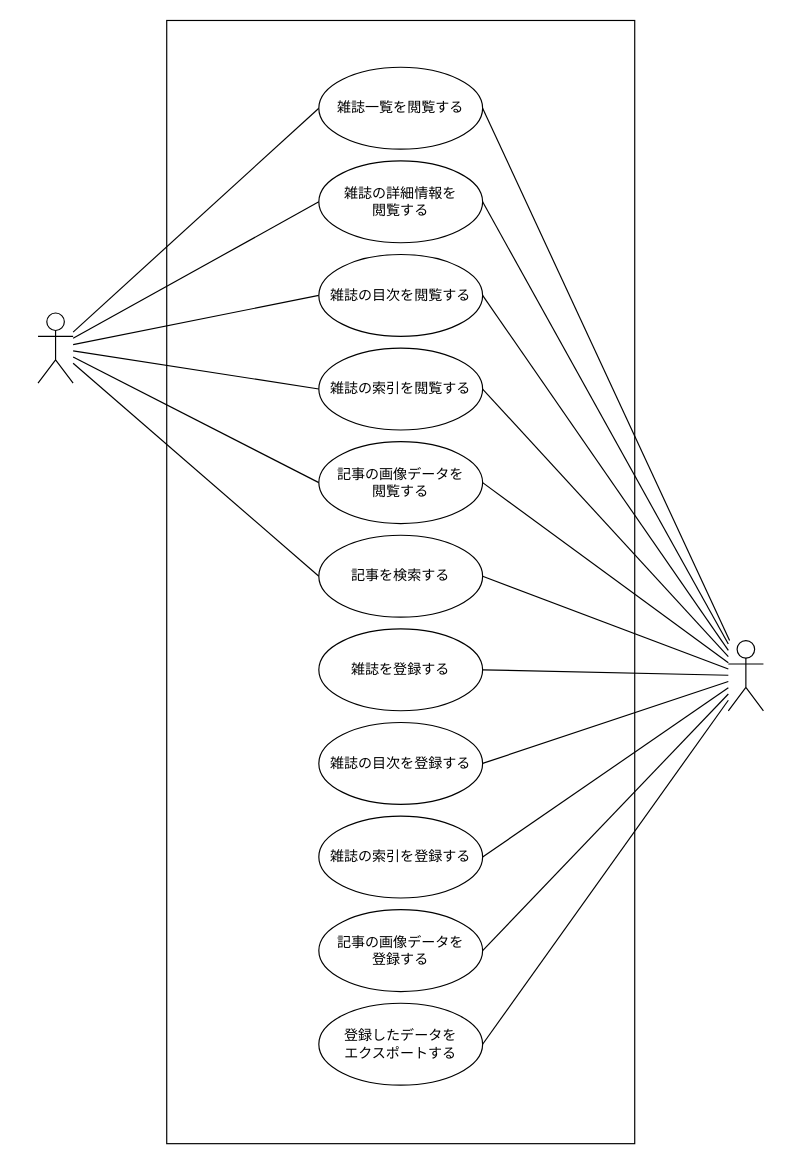
Some shapes in this 807 by 1164 pixel diagram are drawn without their labels. Each missing label, with the centre of its shape:
一般ユーザ: point (55, 347)
管理者ユーザ: point (745, 675)
